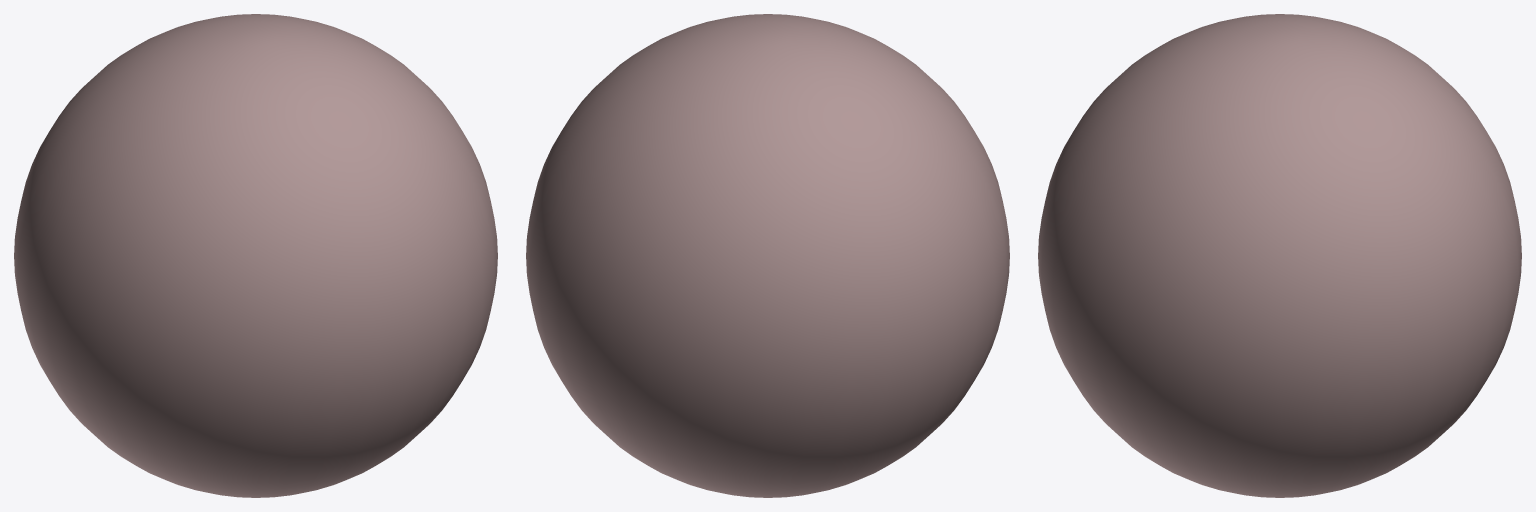
File: Planet.fbx
3 renders of one model, left to right at view 1: azimuth 30°, elevation 25°; view 2: azimuth 150°, elevation 25°; view 3: azimuth 270°, elevation 25°, orthographic.
Visible parts, largest first — view 1: pSphere1; view 2: pSphere1; view 3: pSphere1.
Boxes of the visible parts, <box> form: pSphere1: <box>14,14,497,497</box>; pSphere1: <box>526,14,1009,497</box>; pSphere1: <box>1038,14,1521,497</box>.
Bounding box in the file's own units: 572 × 572 × 572.
